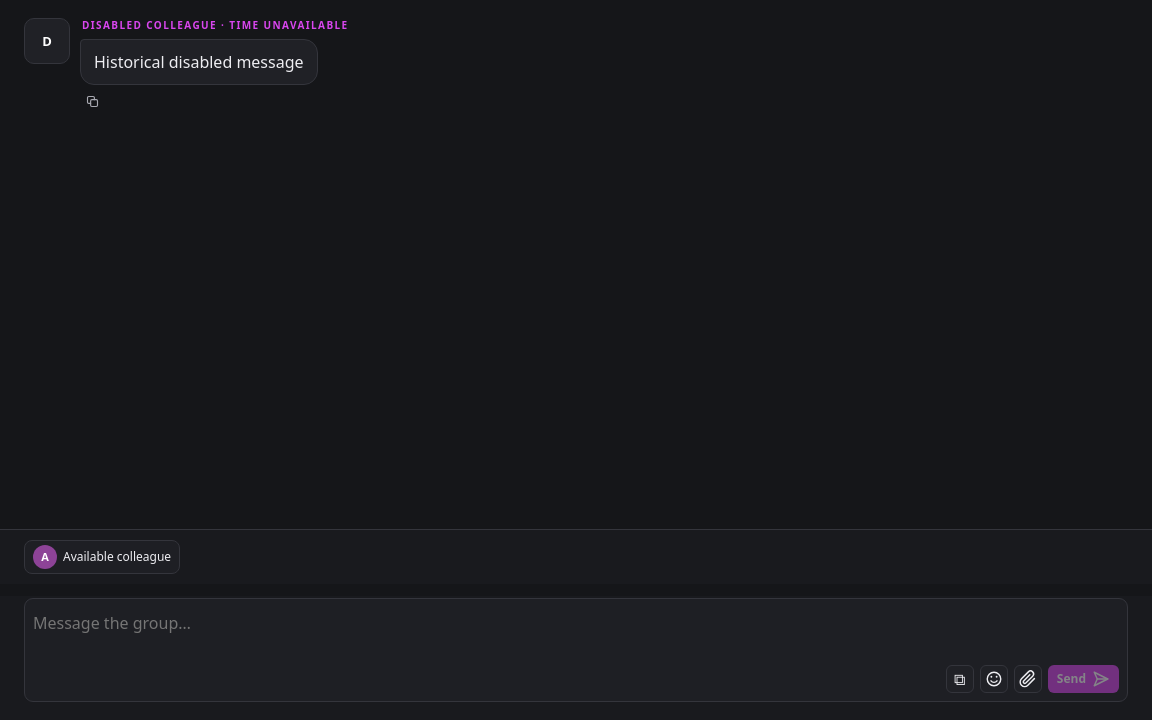
Test case: excludes disabled group members and mentions without removing their historical messages
Expected: the text "Historical disabled message" is shown, [94, 50, 304, 74]
Expected: the number of elements with class "group-agent" is 1, [24, 540, 180, 574]
Type "@" into the text box labelled "Message" at (576, 638), box [33, 611, 1119, 665]
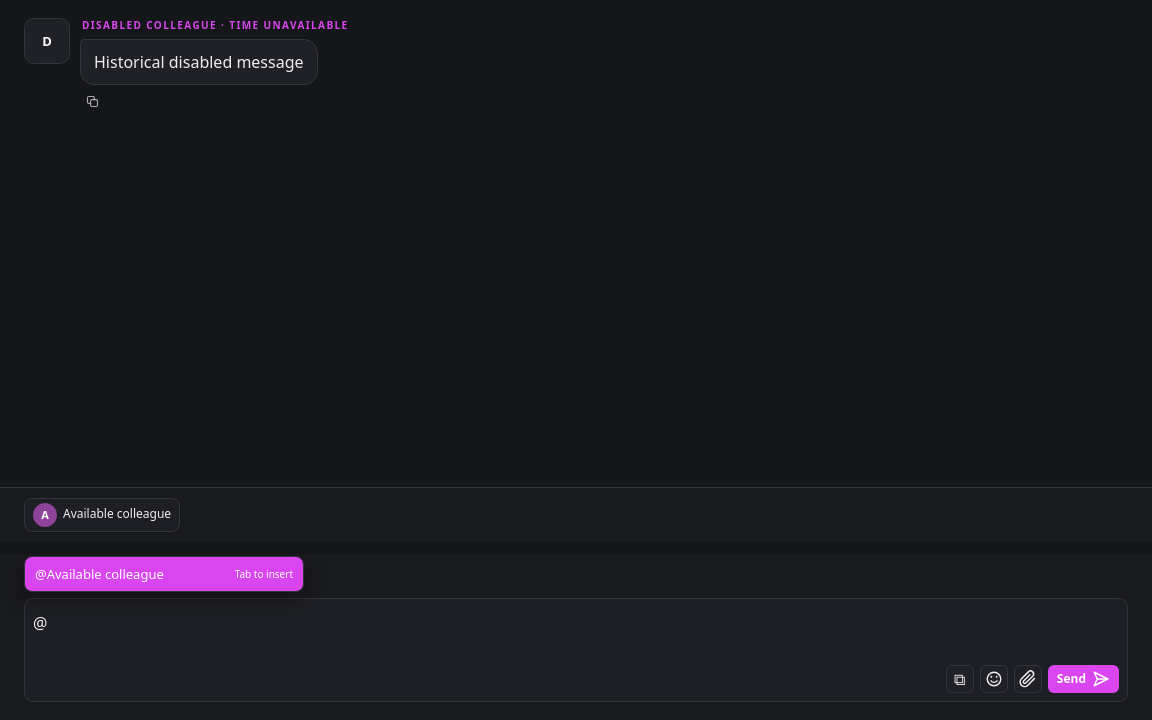
Expected: the text "Historical disabled message" is shown, [94, 50, 304, 74]
Now the text "@Available colleague" is shown, box [35, 565, 164, 583]
